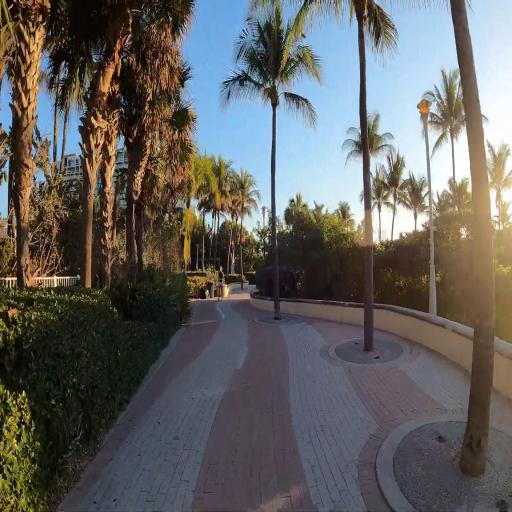Street_Light: (414, 93, 442, 319)
